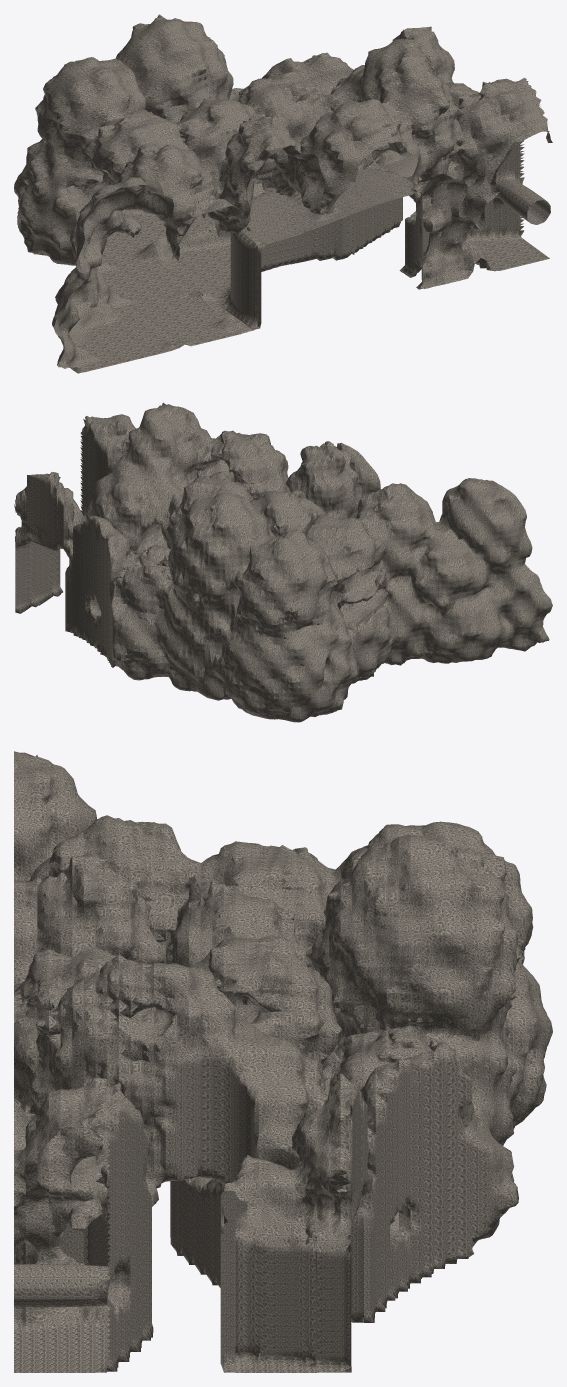
The model's file is taihu_rockery_0.glb.
The picture shows the model from 3 angles, top to bottom: view 1: azimuth 30°, elevation 25°; view 2: azimuth 150°, elevation 25°; view 3: azimuth 270°, elevation 25°; orthographic projection. The views are drawn at different scales.
Parts seen in each view (by area): view 1: taihu_rockery_02, taihu_rockery_03, taihu_rockery_00, taihu_rockery_01, taihu_rockery_06, taihu_rockery_05, taihu_rockery_04, taihu_rockery_07; view 2: taihu_rockery_00, taihu_rockery_01, taihu_rockery_02, taihu_rockery_03, taihu_rockery_06, taihu_rockery_05, taihu_rockery_04, taihu_rockery_07; view 3: taihu_rockery_06, taihu_rockery_05, taihu_rockery_07, taihu_rockery_03, taihu_rockery_04, taihu_rockery_02, taihu_rockery_01, taihu_rockery_00.
Boxes of the visible parts, x1,y1,x2,y2 form: taihu_rockery_02: (26,14,328,348); taihu_rockery_03: (115,17,404,330); taihu_rockery_00: (14,58,252,373); taihu_rockery_01: (26,57,252,348); taihu_rockery_06: (262,26,549,289); taihu_rockery_05: (239,38,480,288); taihu_rockery_04: (198,45,404,268); taihu_rockery_07: (376,27,552,271); taihu_rockery_00: (229,470,552,716); taihu_rockery_01: (228,474,431,722); taihu_rockery_02: (170,442,432,722); taihu_rockery_03: (111,431,373,706); taihu_rockery_06: (15,405,215,656); taihu_rockery_05: (71,402,283,676); taihu_rockery_04: (111,430,290,684); taihu_rockery_07: (14,414,135,632); taihu_rockery_06: (14,955,473,1372); taihu_rockery_05: (14,955,513,1315); taihu_rockery_07: (14,1059,374,1372); taihu_rockery_03: (14,835,537,1248); taihu_rockery_04: (14,889,518,1251); taihu_rockery_02: (14,816,552,1145); taihu_rockery_01: (29,815,552,1129); taihu_rockery_00: (14,751,551,1077).
Size of the model in its own units: 19.1 by 7.6 by 11.09.
Materials: 1 (1 with a texture image).
